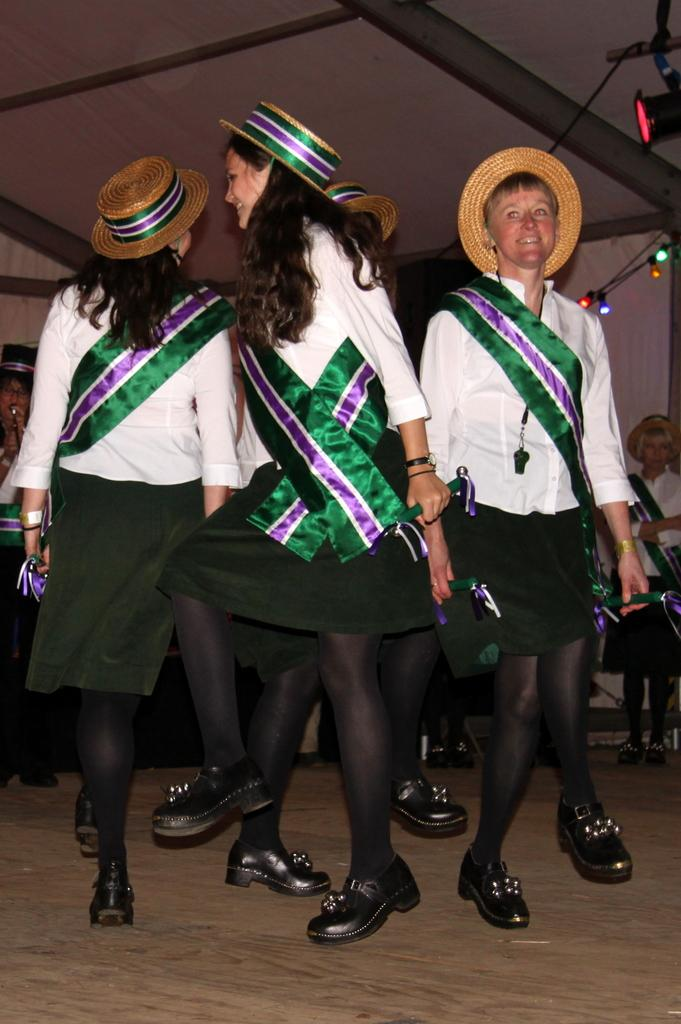Hat: (457, 146, 583, 280), (90, 156, 212, 264), (218, 100, 342, 198), (326, 183, 398, 239)
